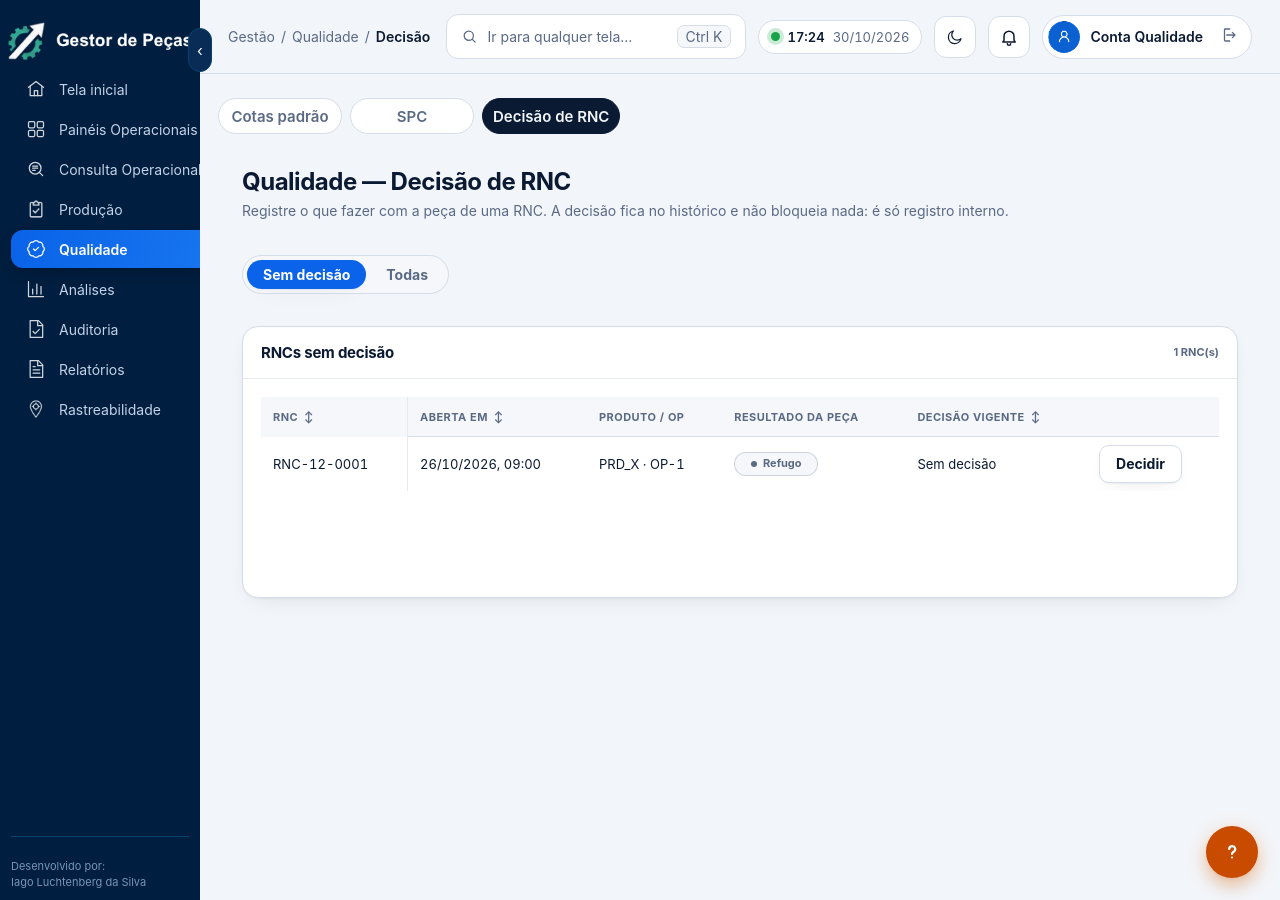
Test: Qualidade — decisão de RNC › Qualidade vê as RNCs sem decisão, registra e vê o aviso de contradição
Expected: the text "RNC-12-0001" is shown, [261,437,408,491]
Click the button with aria-label "Decidir RNC-12-0001" at (1140, 464), box [1099,445,1182,483]
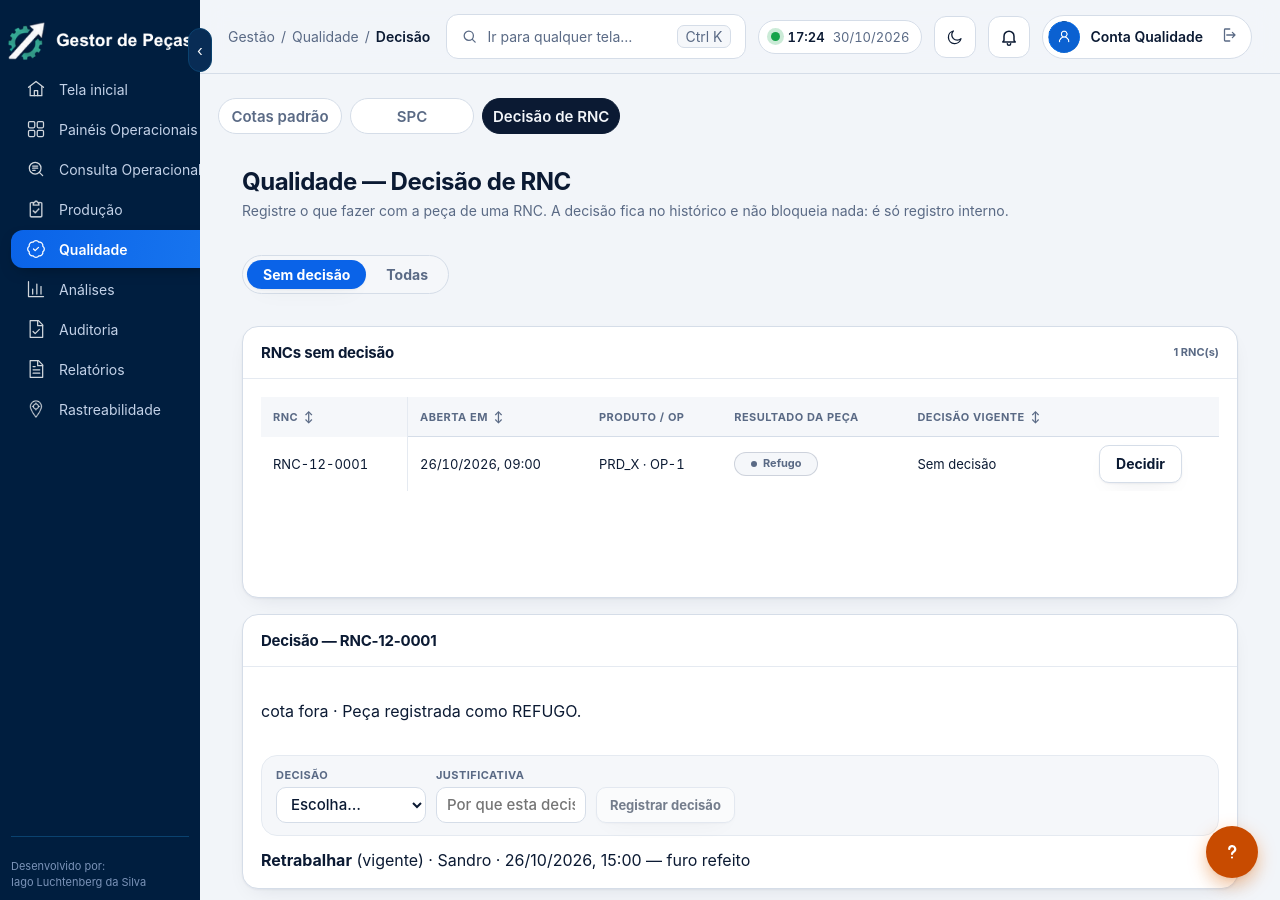
Now the button "Registrar decisão" is disabled, box [596,787,735,823]
Now the list item "furo refeito" is shown, box [667,850,750,870]
Select "Usar como está" in the dropdown labelled "Decisão" at (351, 805), box [276,787,426,823]
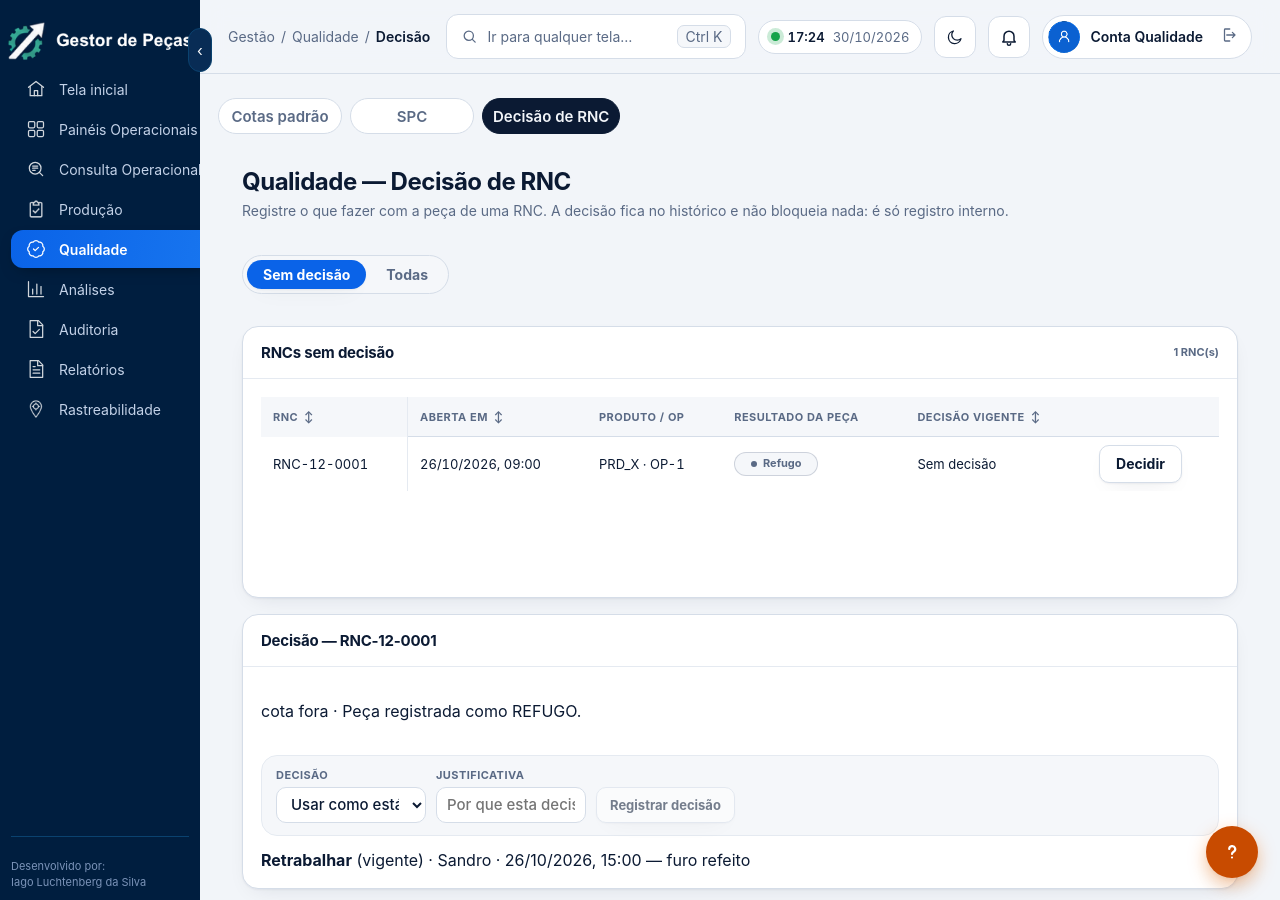
Type "cliente aceitou" into the field labelled "Justificativa" at (511, 805), box [436,787,586,823]
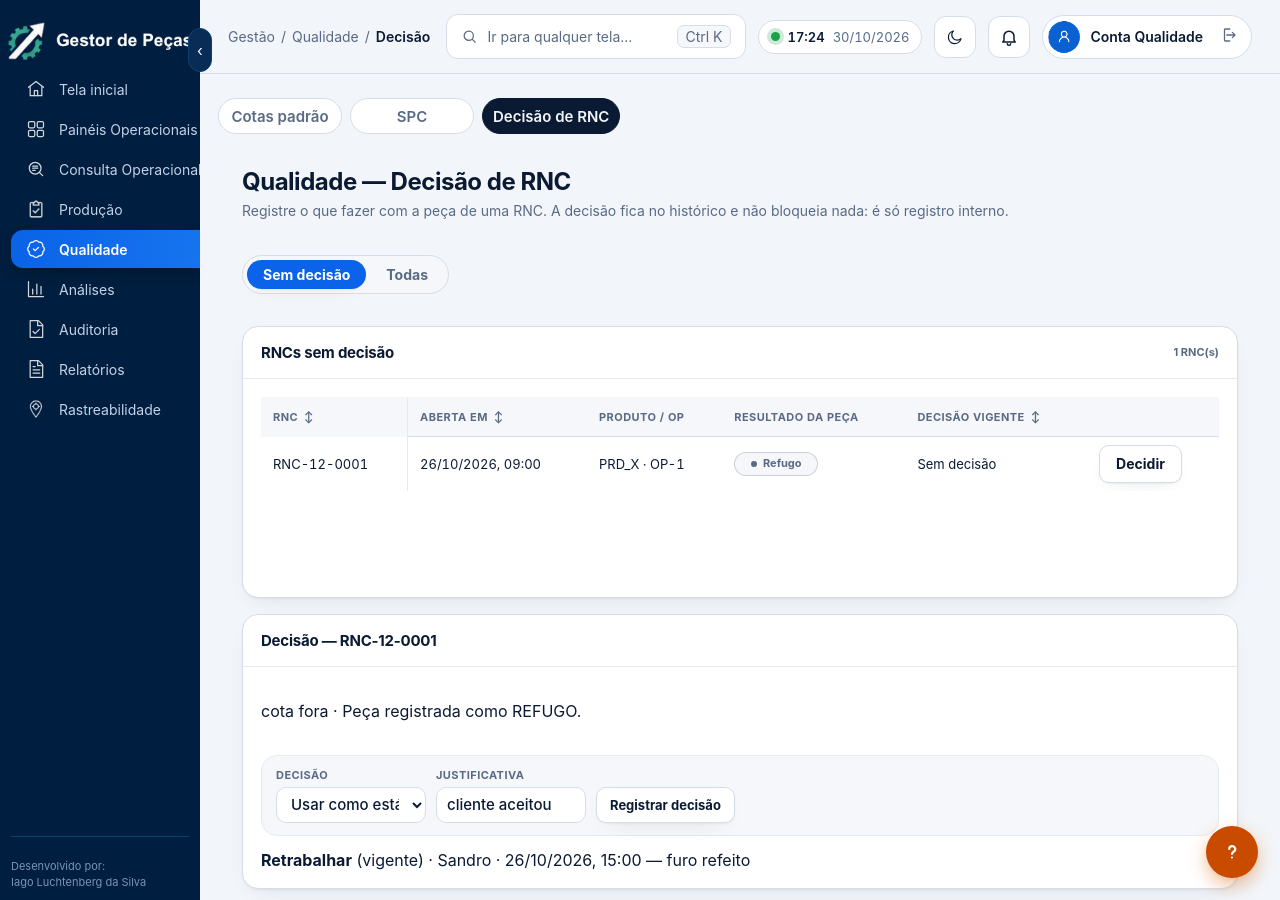
Now the button "Registrar decisão" is enabled
Click the button "Registrar decisão" at (665, 805), box [596,787,735,823]
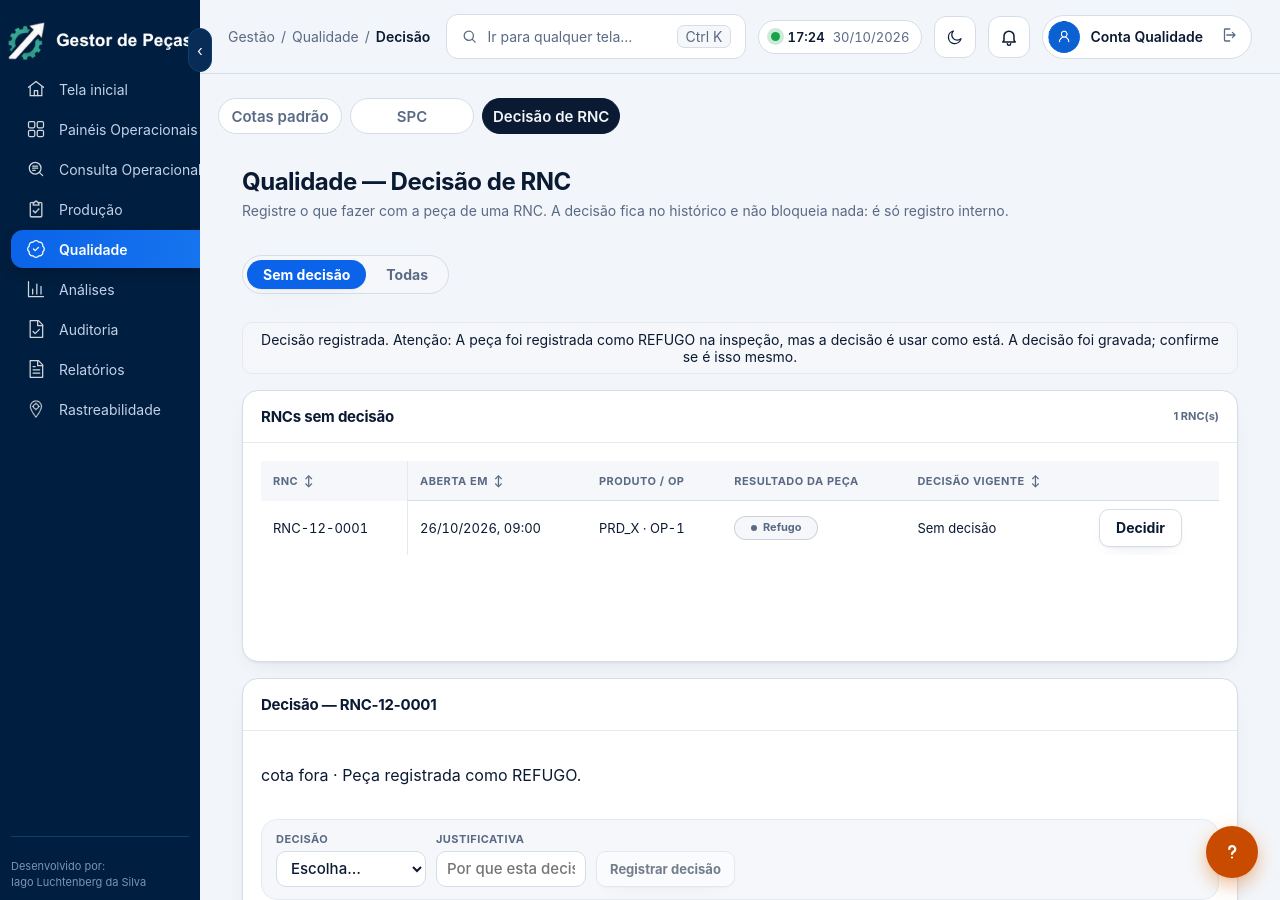
Now the text "Decisão registrada. Atenção:" is shown, box [261,331,1219,365]
